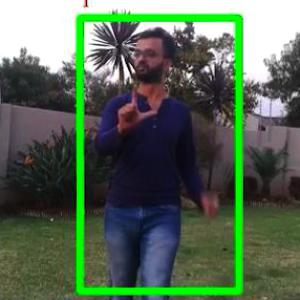land_hand: (111, 77, 160, 134)
